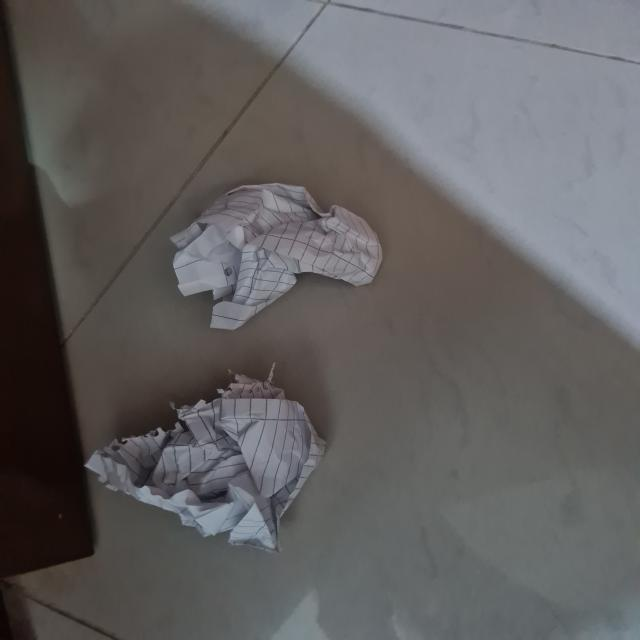Paper: (87, 390, 317, 545), (173, 189, 384, 332)
